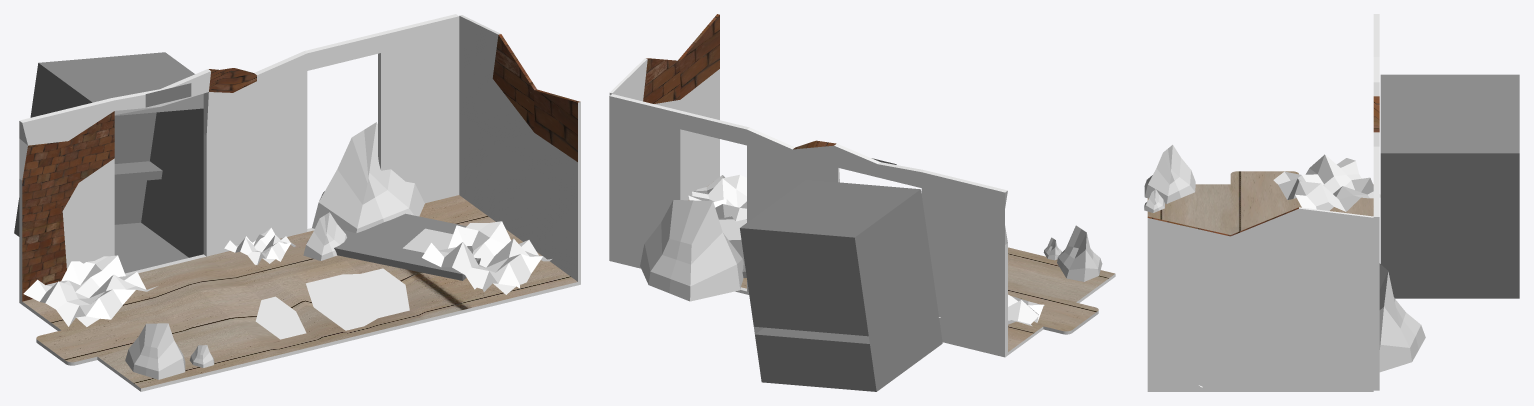
The model's file is pasillo_despues.glb.
3 views of the same model, side by side, from view 1: azimuth 30°, elevation 25°; view 2: azimuth 150°, elevation 25°; view 3: azimuth 270°, elevation 25° (orthographic). The views are drawn at different scales.
Visible parts, largest first — view 1: Cubo, Cubo.001, Cubo.003, Plano subdividido.002, Plano subdividido, Cubo.002, Cubo.006, Plano subdividido.001, Cubo.004, Plano; view 2: Cubo, Cubo.001, Cubo.003, Plano subdividido.002, Cubo.006, Plano subdividido, Cubo.002; view 3: Cubo, Cubo.001, Plano subdividido, Cubo.003, Cubo.006, Cubo.005.
Part boxes in pixels (x1,y1,x2,y2): Cubo: (19,14,580,391); Cubo.001: (14,52,203,273); Cubo.003: (312,122,424,233); Plano subdividido.002: (422,221,551,294); Plano subdividido: (23,255,157,326); Cubo.002: (334,213,480,280); Cubo.006: (125,323,185,379); Plano subdividido.001: (224,227,295,265); Cubo.004: (303,212,346,260); Plano: (145,83,191,107); Cubo: (609,14,1115,357); Cubo.001: (740,179,942,391); Cubo.003: (640,200,743,301); Plano subdividido.002: (688,175,746,221); Cubo.006: (1057,225,1102,281); Plano subdividido: (939,294,1044,326); Cubo.002: (718,216,746,277); Cubo: (1147,14,1379,391); Cubo.001: (1380,74,1519,298); Plano subdividido: (1273,154,1380,211); Cubo.003: (1379,263,1425,372); Cubo.006: (1144,145,1195,203); Cubo.005: (1144,189,1164,212).
Bounding box in the file's own units: 20.78 × 9.01 × 15.05.
5 materials, 2 textured.
